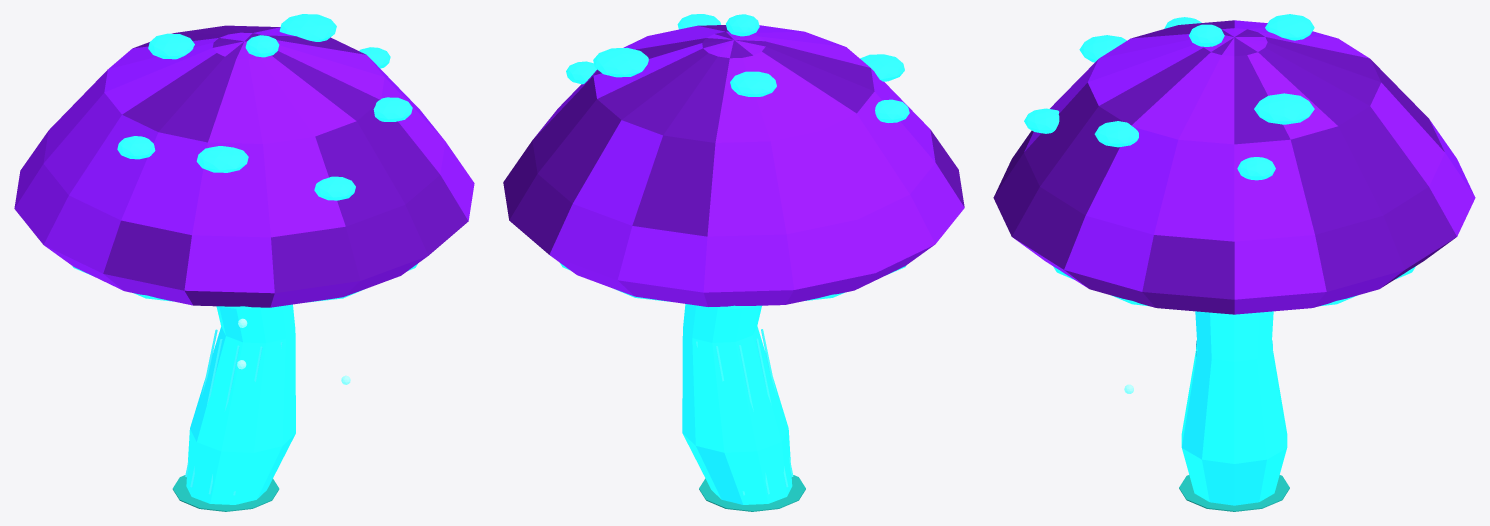
The model's file is forest_mushroom_purple.glb.
3 renders of one model, left to right at view 1: azimuth 30°, elevation 25°; view 2: azimuth 150°, elevation 25°; view 3: azimuth 270°, elevation 25°, orthographic. The views are drawn at different scales.
Parts seen in each view (by area): view 1: Broad faceted mushroom cap.001, Curving luminous mushroom stem.001, Bioluminescent cap spot.012, Mushroom cyan ground bounce.001, Bioluminescent cap spot.008, Bioluminescent cap spot.011, Bioluminescent cap spot.010, Bioluminescent cap spot.009, Bioluminescent cap spot.014, Bioluminescent cap spot.013; view 2: Broad faceted mushroom cap.001, Curving luminous mushroom stem.001, Bioluminescent cap spot.012, Mushroom cyan ground bounce.001, Bioluminescent cap spot.011, Bioluminescent cap spot.008, Bioluminescent cap spot.014, Bioluminescent cap spot.013, Bioluminescent cap spot.015; view 3: Broad faceted mushroom cap.001, Curving luminous mushroom stem.001, Bioluminescent cap spot.012, Mushroom cyan ground bounce.001, Bioluminescent cap spot.011, Bioluminescent cap spot.009, Bioluminescent cap spot.008, Bioluminescent cap spot.010, Bioluminescent cap spot.015, Bioluminescent cap spot.013.
Boxes of the visible parts, bbox=[...] form: Broad faceted mushroom cap.001: bbox=[14, 25, 474, 307]; Curving luminous mushroom stem.001: bbox=[186, 304, 295, 504]; Bioluminescent cap spot.012: bbox=[279, 14, 336, 41]; Mushroom cyan ground bounce.001: bbox=[172, 475, 279, 511]; Bioluminescent cap spot.008: bbox=[196, 146, 248, 172]; Bioluminescent cap spot.011: bbox=[148, 33, 194, 59]; Bioluminescent cap spot.010: bbox=[314, 176, 355, 200]; Bioluminescent cap spot.009: bbox=[373, 97, 412, 121]; Bioluminescent cap spot.014: bbox=[117, 136, 155, 159]; Bioluminescent cap spot.013: bbox=[245, 35, 279, 57]; Broad faceted mushroom cap.001: bbox=[503, 25, 964, 306]; Curving luminous mushroom stem.001: bbox=[682, 304, 792, 504]; Bioluminescent cap spot.012: bbox=[593, 47, 648, 77]; Mushroom cyan ground bounce.001: bbox=[699, 475, 805, 511]; Bioluminescent cap spot.011: bbox=[730, 71, 776, 96]; Bioluminescent cap spot.008: bbox=[860, 54, 904, 81]; Bioluminescent cap spot.014: bbox=[875, 99, 909, 122]; Bioluminescent cap spot.013: bbox=[726, 14, 759, 36]; Bioluminescent cap spot.015: bbox=[566, 61, 596, 84]; Broad faceted mushroom cap.001: bbox=[993, 20, 1475, 314]; Curving luminous mushroom stem.001: bbox=[1181, 311, 1287, 505]; Bioluminescent cap spot.012: bbox=[1254, 93, 1314, 124]; Mushroom cyan ground bounce.001: bbox=[1179, 475, 1289, 511]; Bioluminescent cap spot.011: bbox=[1265, 14, 1314, 40]; Bioluminescent cap spot.009: bbox=[1094, 121, 1138, 147]; Bioluminescent cap spot.008: bbox=[1079, 35, 1126, 62]; Bioluminescent cap spot.010: bbox=[1024, 108, 1059, 133]; Bioluminescent cap spot.015: bbox=[1237, 157, 1275, 180]; Bioluminescent cap spot.013: bbox=[1189, 24, 1224, 46].
Bounding box in the file's own units: 1.74 × 1.89 × 1.74.
